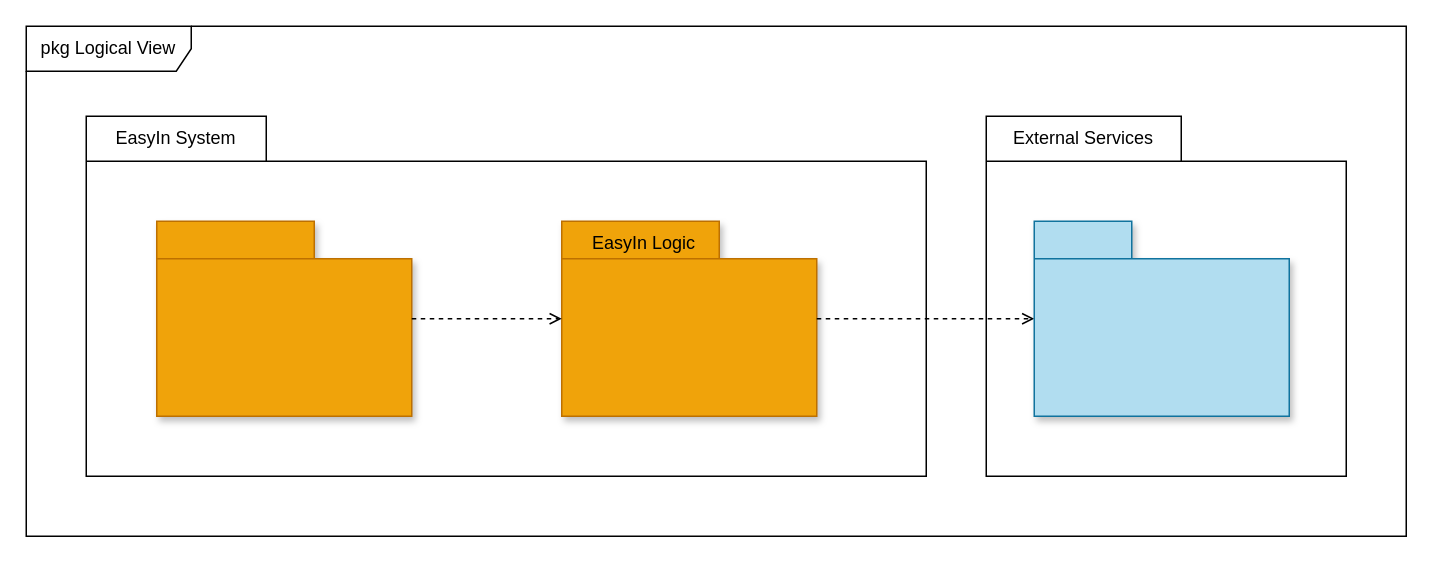
Some shapes in this 1433 by 563 pixel diagram are drawn without their labels. Here are the shapes that lost their labels. From the top down, the centre of each, then its label:
(285,320): EasyIn GUI
(1162,320): Sigarra
